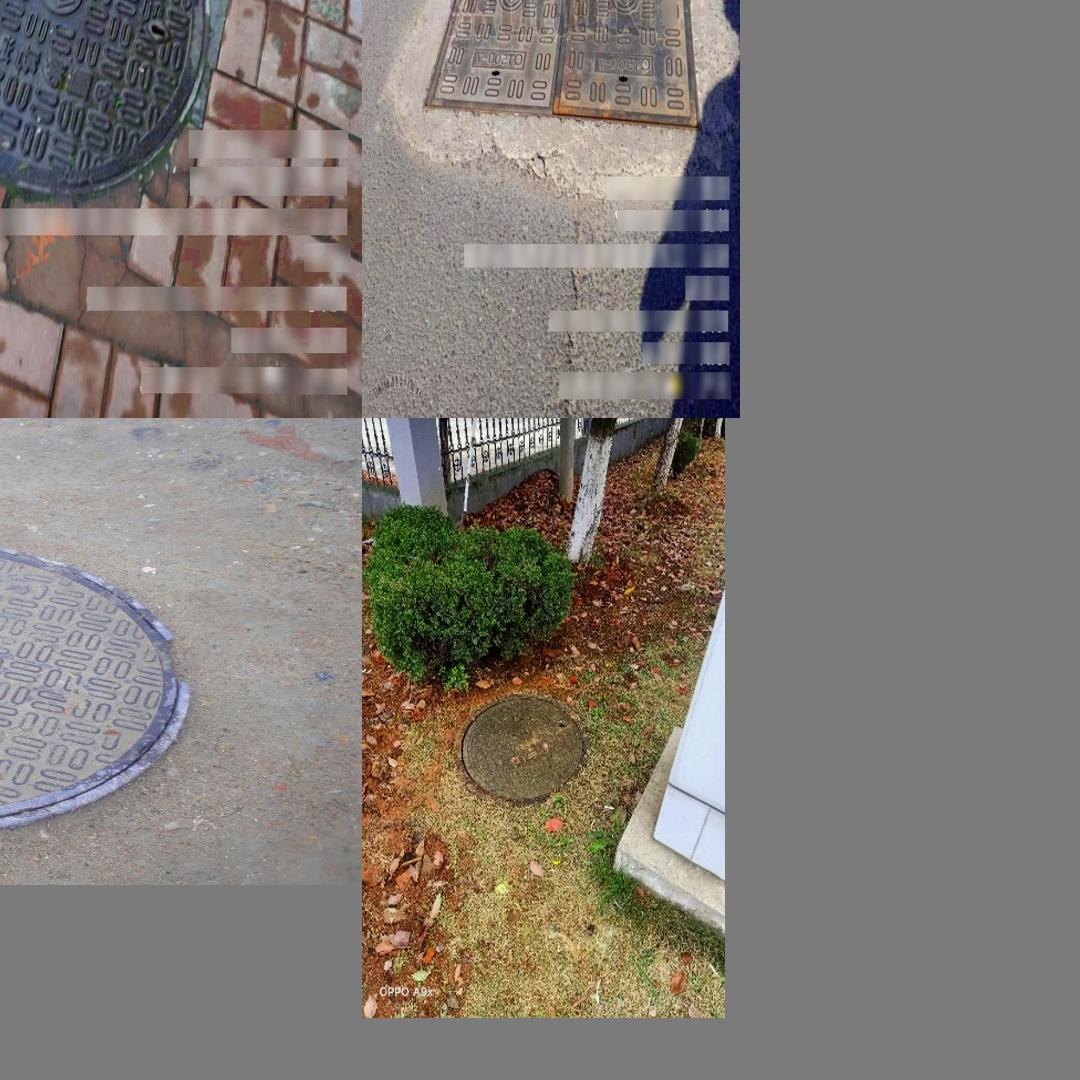good: (0, 538, 188, 831), (0, 0, 209, 197), (422, 0, 701, 130), (456, 693, 585, 806)
